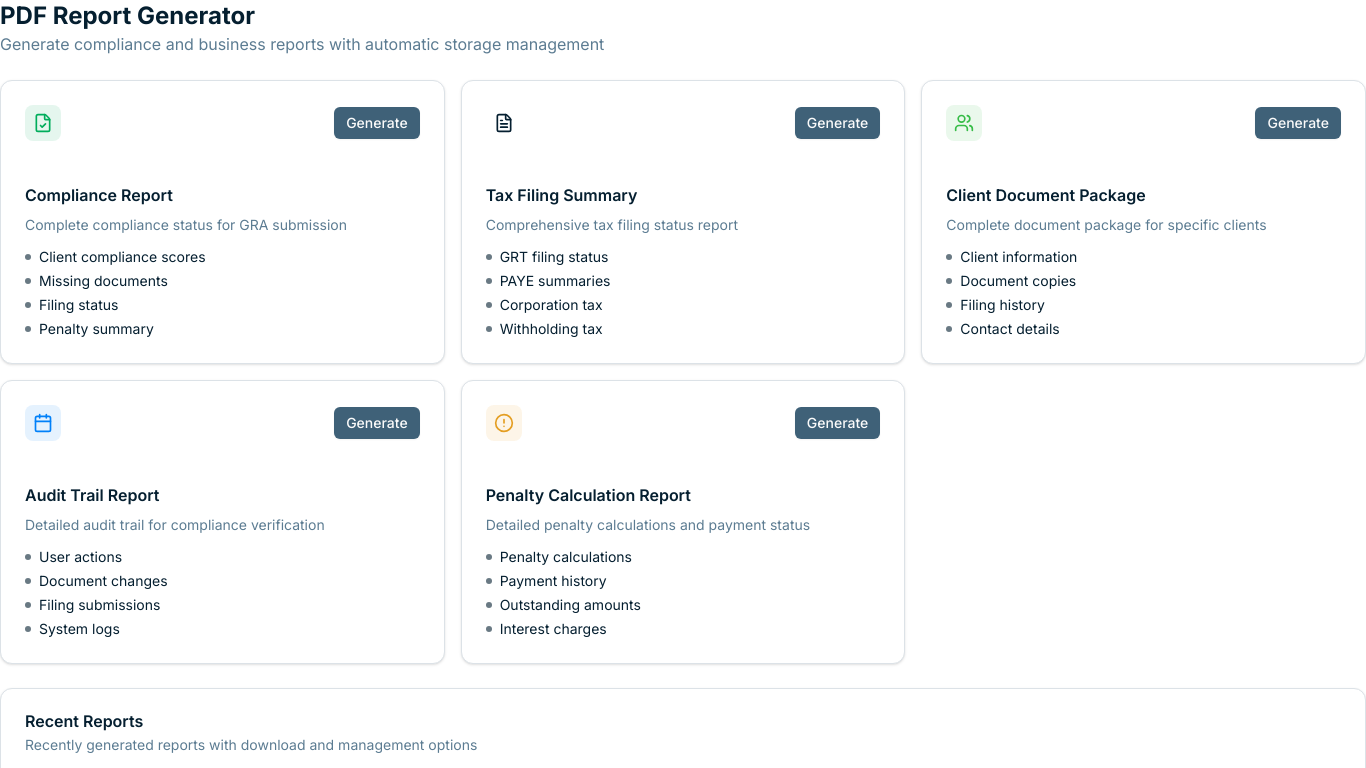
Test: PDFReportInterface › should render report generation form with client selection
The width and height of the screenshot is (1366, 768).
Click the 1st button "Generate" at {"x": 377, "y": 123}, box top-left (334, 107), bottom-right (420, 139)
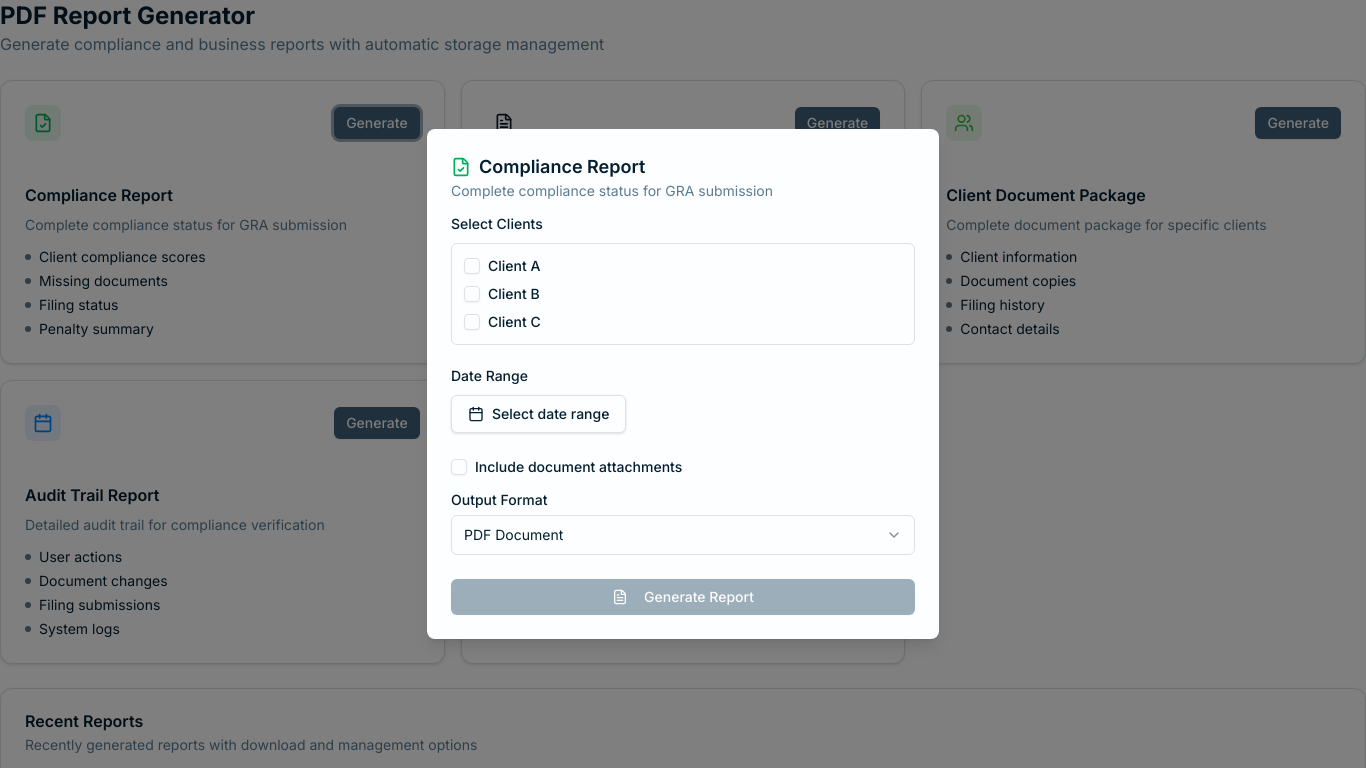
expect the text "Select Clients" is shown: met, box top-left (451, 215), bottom-right (543, 232)
expect the text "Client A" is shown: met, box top-left (488, 256), bottom-right (540, 276)
expect the text "Client B" is shown: met, box top-left (488, 284), bottom-right (540, 304)
